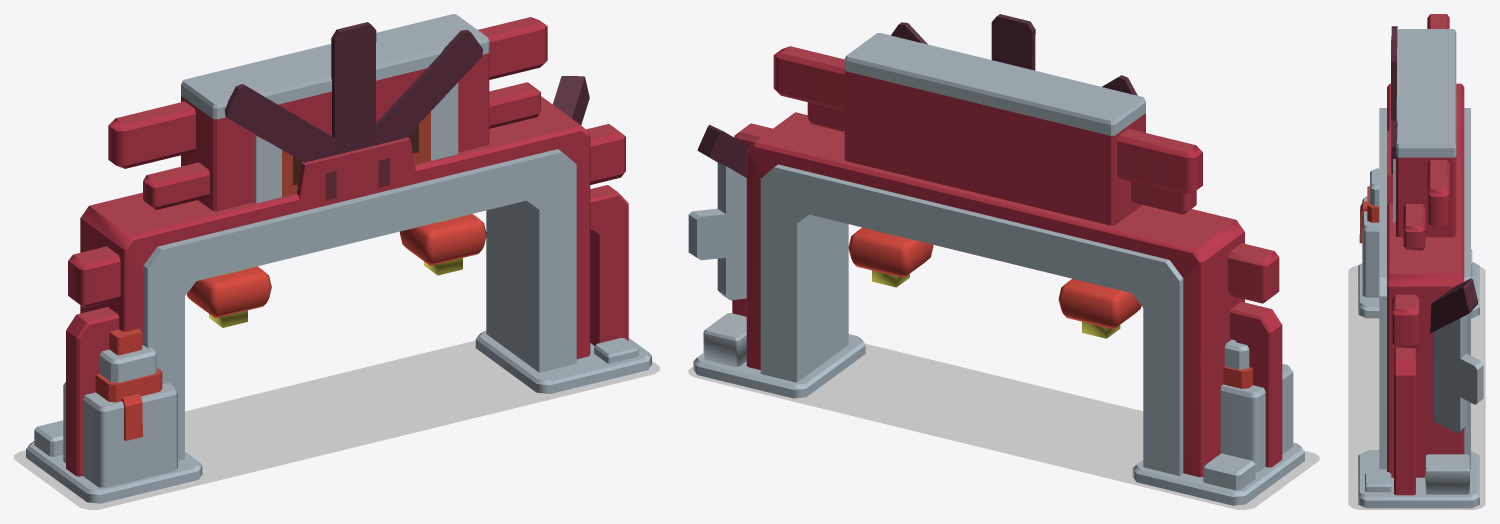
File: G_makeover_arch_6.fbx
3 views of the same model, side by side, from view 1: azimuth 30°, elevation 25°; view 2: azimuth 150°, elevation 25°; view 3: azimuth 270°, elevation 25° (orthographic). The views are drawn at different scales.
Visible parts, largest first — view 1: model, ground; view 2: model, ground; view 3: model, ground.
Part boxes in pixels (<box>): model: <box>26,14,651,503</box>; ground: <box>14,340,659,509</box>; model: <box>688,14,1304,505</box>; ground: <box>688,343,1319,509</box>; model: <box>1358,14,1483,508</box>; ground: <box>1348,265,1485,509</box>.
Bounding box in the file's own units: 15.32 × 9.98 × 3.63.
